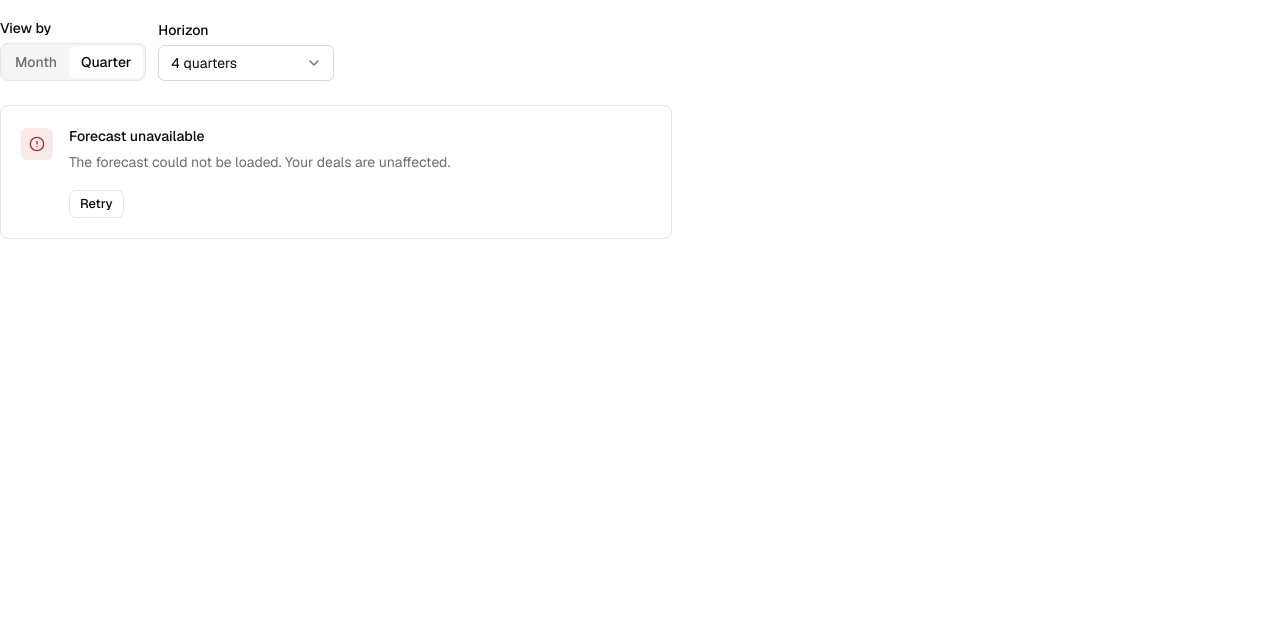
Forecast page › retries server errors, then shows an error with a working Retry
expect the heading "Forecast unavailable" is shown: met, box [69, 127, 205, 145]
expect the text "The forecast could not be loaded. Your deals are unaffected." is shown: met, box [69, 150, 450, 174]
Click the button "Retry".
click(96, 204)  # box [69, 190, 124, 218]
(page scrolled)
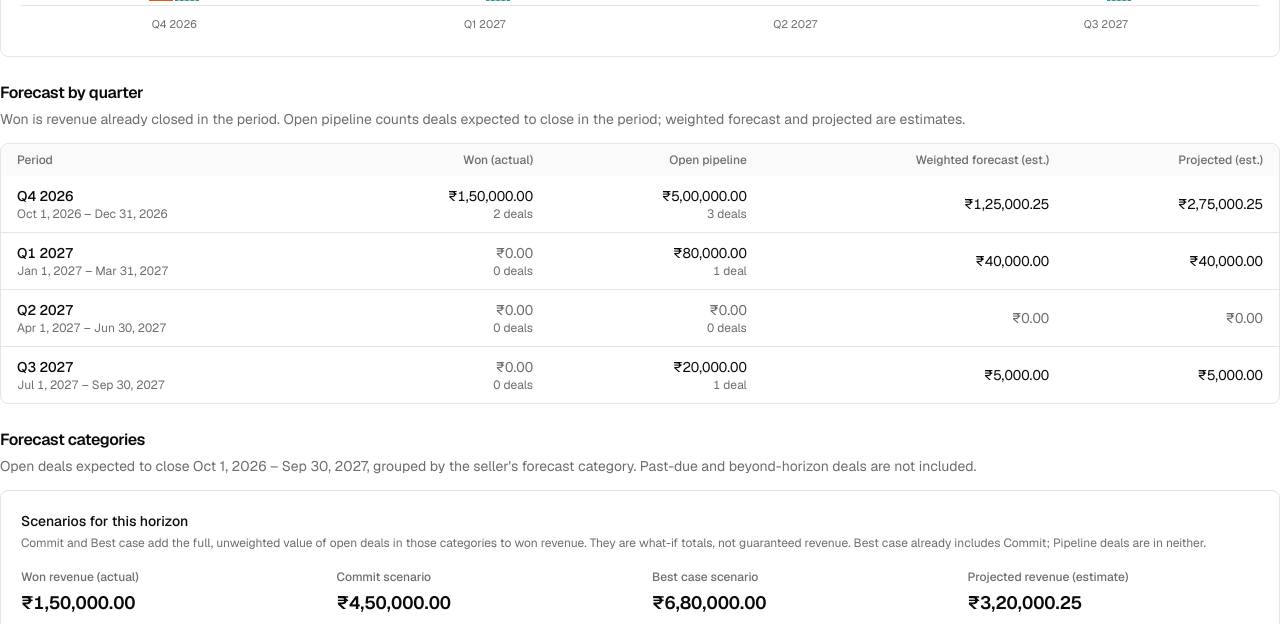
expect the table is shown: met, box [1, 144, 1279, 403]
